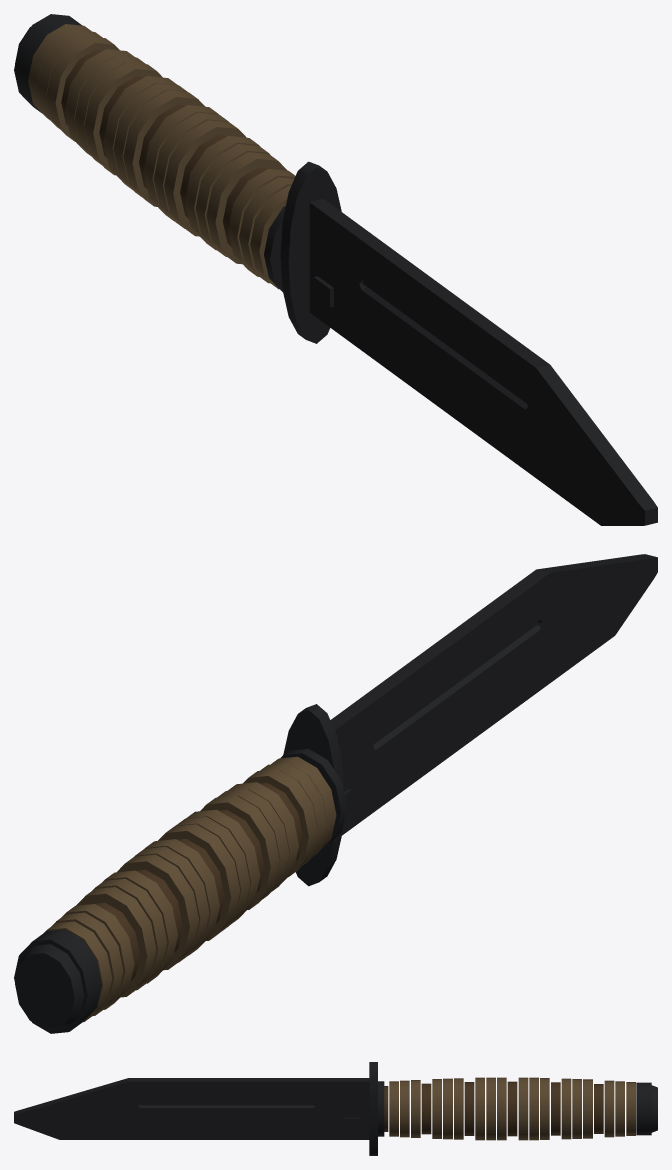
The model's file is usmc-ka-bar-fighting.glb.
3 views of the same model, one above another, from view 1: azimuth 30°, elevation 25°; view 2: azimuth 150°, elevation 25°; view 3: azimuth 270°, elevation 25° (orthographic). The views are drawn at different scales.
Parts seen in each view (by area): view 1: Mesh_Blade, Mesh_Crossguard, Mesh_Washer_14, Mesh_Washer_18, Mesh_Washer_10, Mesh_Washer_6, Mesh_Washer_2, Mesh_PommelMain, Mesh_Washer_16, Mesh_Washer_17, Mesh_Washer_13, Mesh_Washer_12 (+10 smaller); view 2: Mesh_Blade, Mesh_PommelCap, Mesh_Crossguard, Mesh_PommelMain, Mesh_Washer_8, Mesh_Washer_4, Mesh_Washer_12, Mesh_Washer_16, Mesh_Washer_20, Mesh_Washer_5, Mesh_Washer_6, Mesh_Washer_9 (+11 smaller); view 3: Mesh_Blade, Mesh_PommelMain, Mesh_Crossguard, Mesh_Washer_10, Mesh_Washer_6, Mesh_Washer_9, Mesh_Washer_12, Mesh_Washer_13, Mesh_Washer_14, Mesh_Washer_2, Mesh_Washer_8, Mesh_Washer_16 (+18 smaller).
Boxes of the visible parts, box(x1,y1,x2,y2) form: Mesh_Blade: box(309, 199, 657, 525); Mesh_Crossguard: box(280, 161, 341, 343); Mesh_Washer_14: box(164, 120, 246, 236); Mesh_Washer_18: box(206, 152, 287, 264); Mesh_Washer_10: box(123, 90, 204, 206); Mesh_Washer_6: box(84, 62, 162, 175); Mesh_Washer_2: box(46, 36, 119, 141); Mesh_PommelMain: box(14, 14, 82, 112); Mesh_Washer_16: box(185, 136, 260, 250); Mesh_Washer_17: box(195, 144, 270, 256); Mesh_Washer_13: box(153, 112, 228, 228); Mesh_Washer_12: box(143, 105, 218, 221); Mesh_Blade: box(330, 554, 657, 835); Mesh_PommelCap: box(15, 944, 84, 1029); Mesh_Crossguard: box(283, 704, 344, 886); Mesh_PommelMain: box(14, 929, 101, 1033); Mesh_Washer_8: box(117, 854, 199, 970); Mesh_Washer_4: box(76, 887, 156, 997); Mesh_Washer_12: box(158, 824, 240, 940); Mesh_Washer_16: box(200, 795, 279, 909); Mesh_Washer_20: box(243, 769, 317, 876); Mesh_Washer_5: box(92, 878, 167, 990); Mesh_Washer_6: box(103, 870, 177, 983); Mesh_Washer_9: box(134, 847, 209, 962); Mesh_Blade: box(14, 1078, 369, 1139); Mesh_PommelMain: box(636, 1082, 651, 1135); Mesh_Crossguard: box(369, 1062, 377, 1155); Mesh_Washer_10: box(518, 1077, 528, 1140); Mesh_Washer_6: box(561, 1078, 571, 1139); Mesh_Washer_9: box(529, 1077, 538, 1140); Mesh_Washer_12: box(497, 1077, 506, 1140); Mesh_Washer_13: box(486, 1077, 495, 1140); Mesh_Washer_14: box(475, 1077, 484, 1140); Mesh_Washer_2: box(604, 1080, 614, 1137); Mesh_Washer_8: box(540, 1078, 549, 1139); Mesh_Washer_16: box(454, 1078, 463, 1139).
Bounding box in the file's own units: 0.025 × 0.048 × 0.299.
